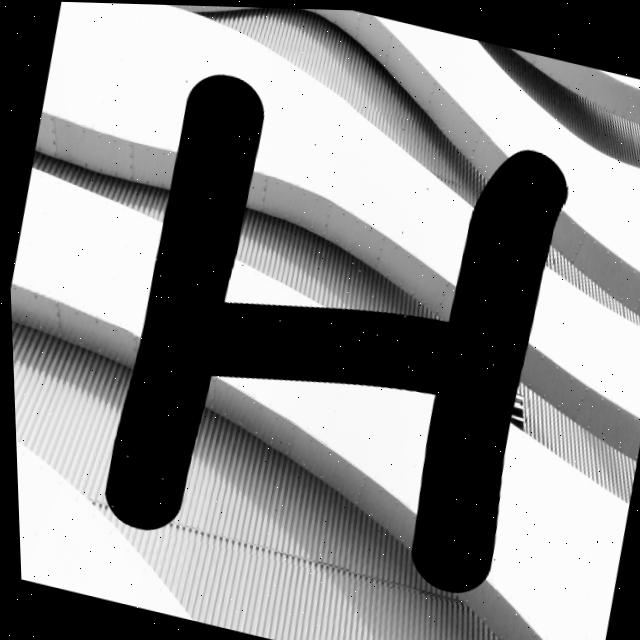H: (102, 73, 566, 590)
